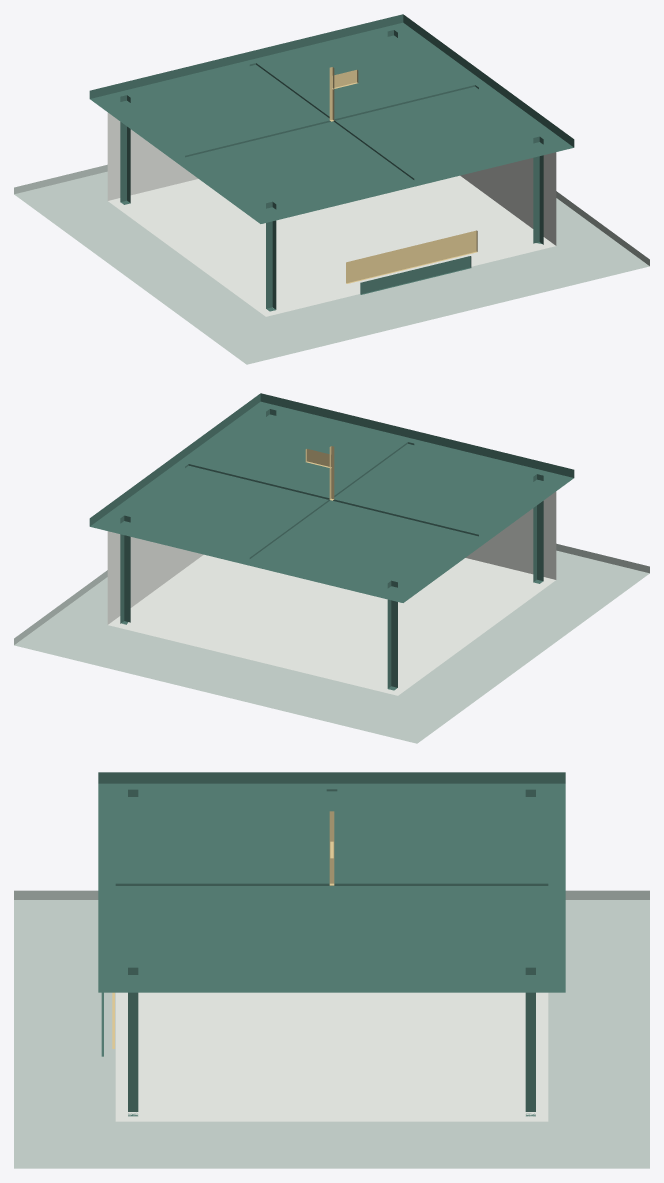
File: fire_station.glb
3 renders of one model, top to bottom at view 1: azimuth 30°, elevation 25°; view 2: azimuth 150°, elevation 25°; view 3: azimuth 270°, elevation 25°, orthographic. The views are drawn at different scales.
Visible parts, largest first — view 1: Roof, Walls, Foundation, Details, Frame; view 2: Roof, Walls, Foundation, Frame, Details; view 3: Roof, Foundation, Walls, Frame, Details.
Boxes of the visible parts, x1=… form: Roof: x1=89, y1=14, x2=574, y2=223; Walls: x1=107, y1=112, x2=556, y2=316; Foundation: x1=14, y1=164, x2=649, y2=364; Details: x1=329, y1=67, x2=477, y2=294; Frame: x1=120, y1=30, x2=543, y2=311; Roof: x1=89, y1=393, x2=574, y2=602; Walls: x1=107, y1=491, x2=556, y2=695; Foundation: x1=14, y1=543, x2=649, y2=743; Frame: x1=120, y1=409, x2=543, y2=690; Details: x1=305, y1=446, x2=334, y2=500; Roof: x1=98, y1=772, x2=565, y2=992; Foundation: x1=14, y1=890, x2=649, y2=1168; Walls: x1=115, y1=992, x2=548, y2=1121; Frame: x1=115, y1=789, x2=548, y2=1116; Details: x1=101, y1=811, x2=334, y2=1056.
Size of the model in its own units: 40 by 15.4 by 40.
